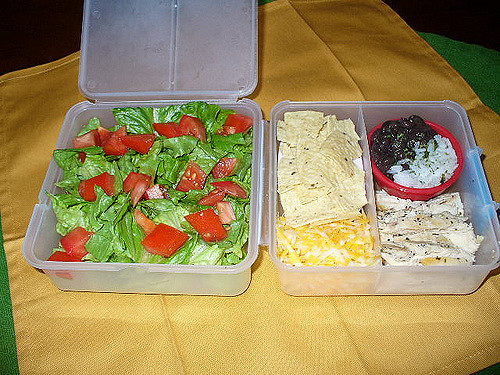chopped lettuce: (60, 111, 257, 276)
